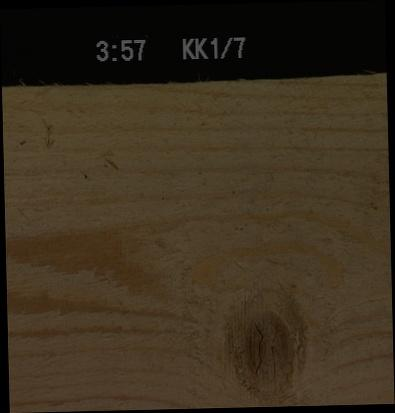sound_knot: (226, 296, 307, 400)
